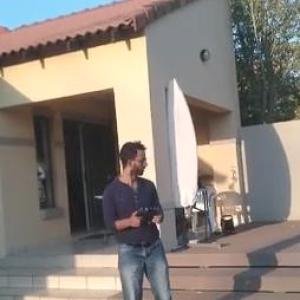follow: (102, 138, 184, 299)
